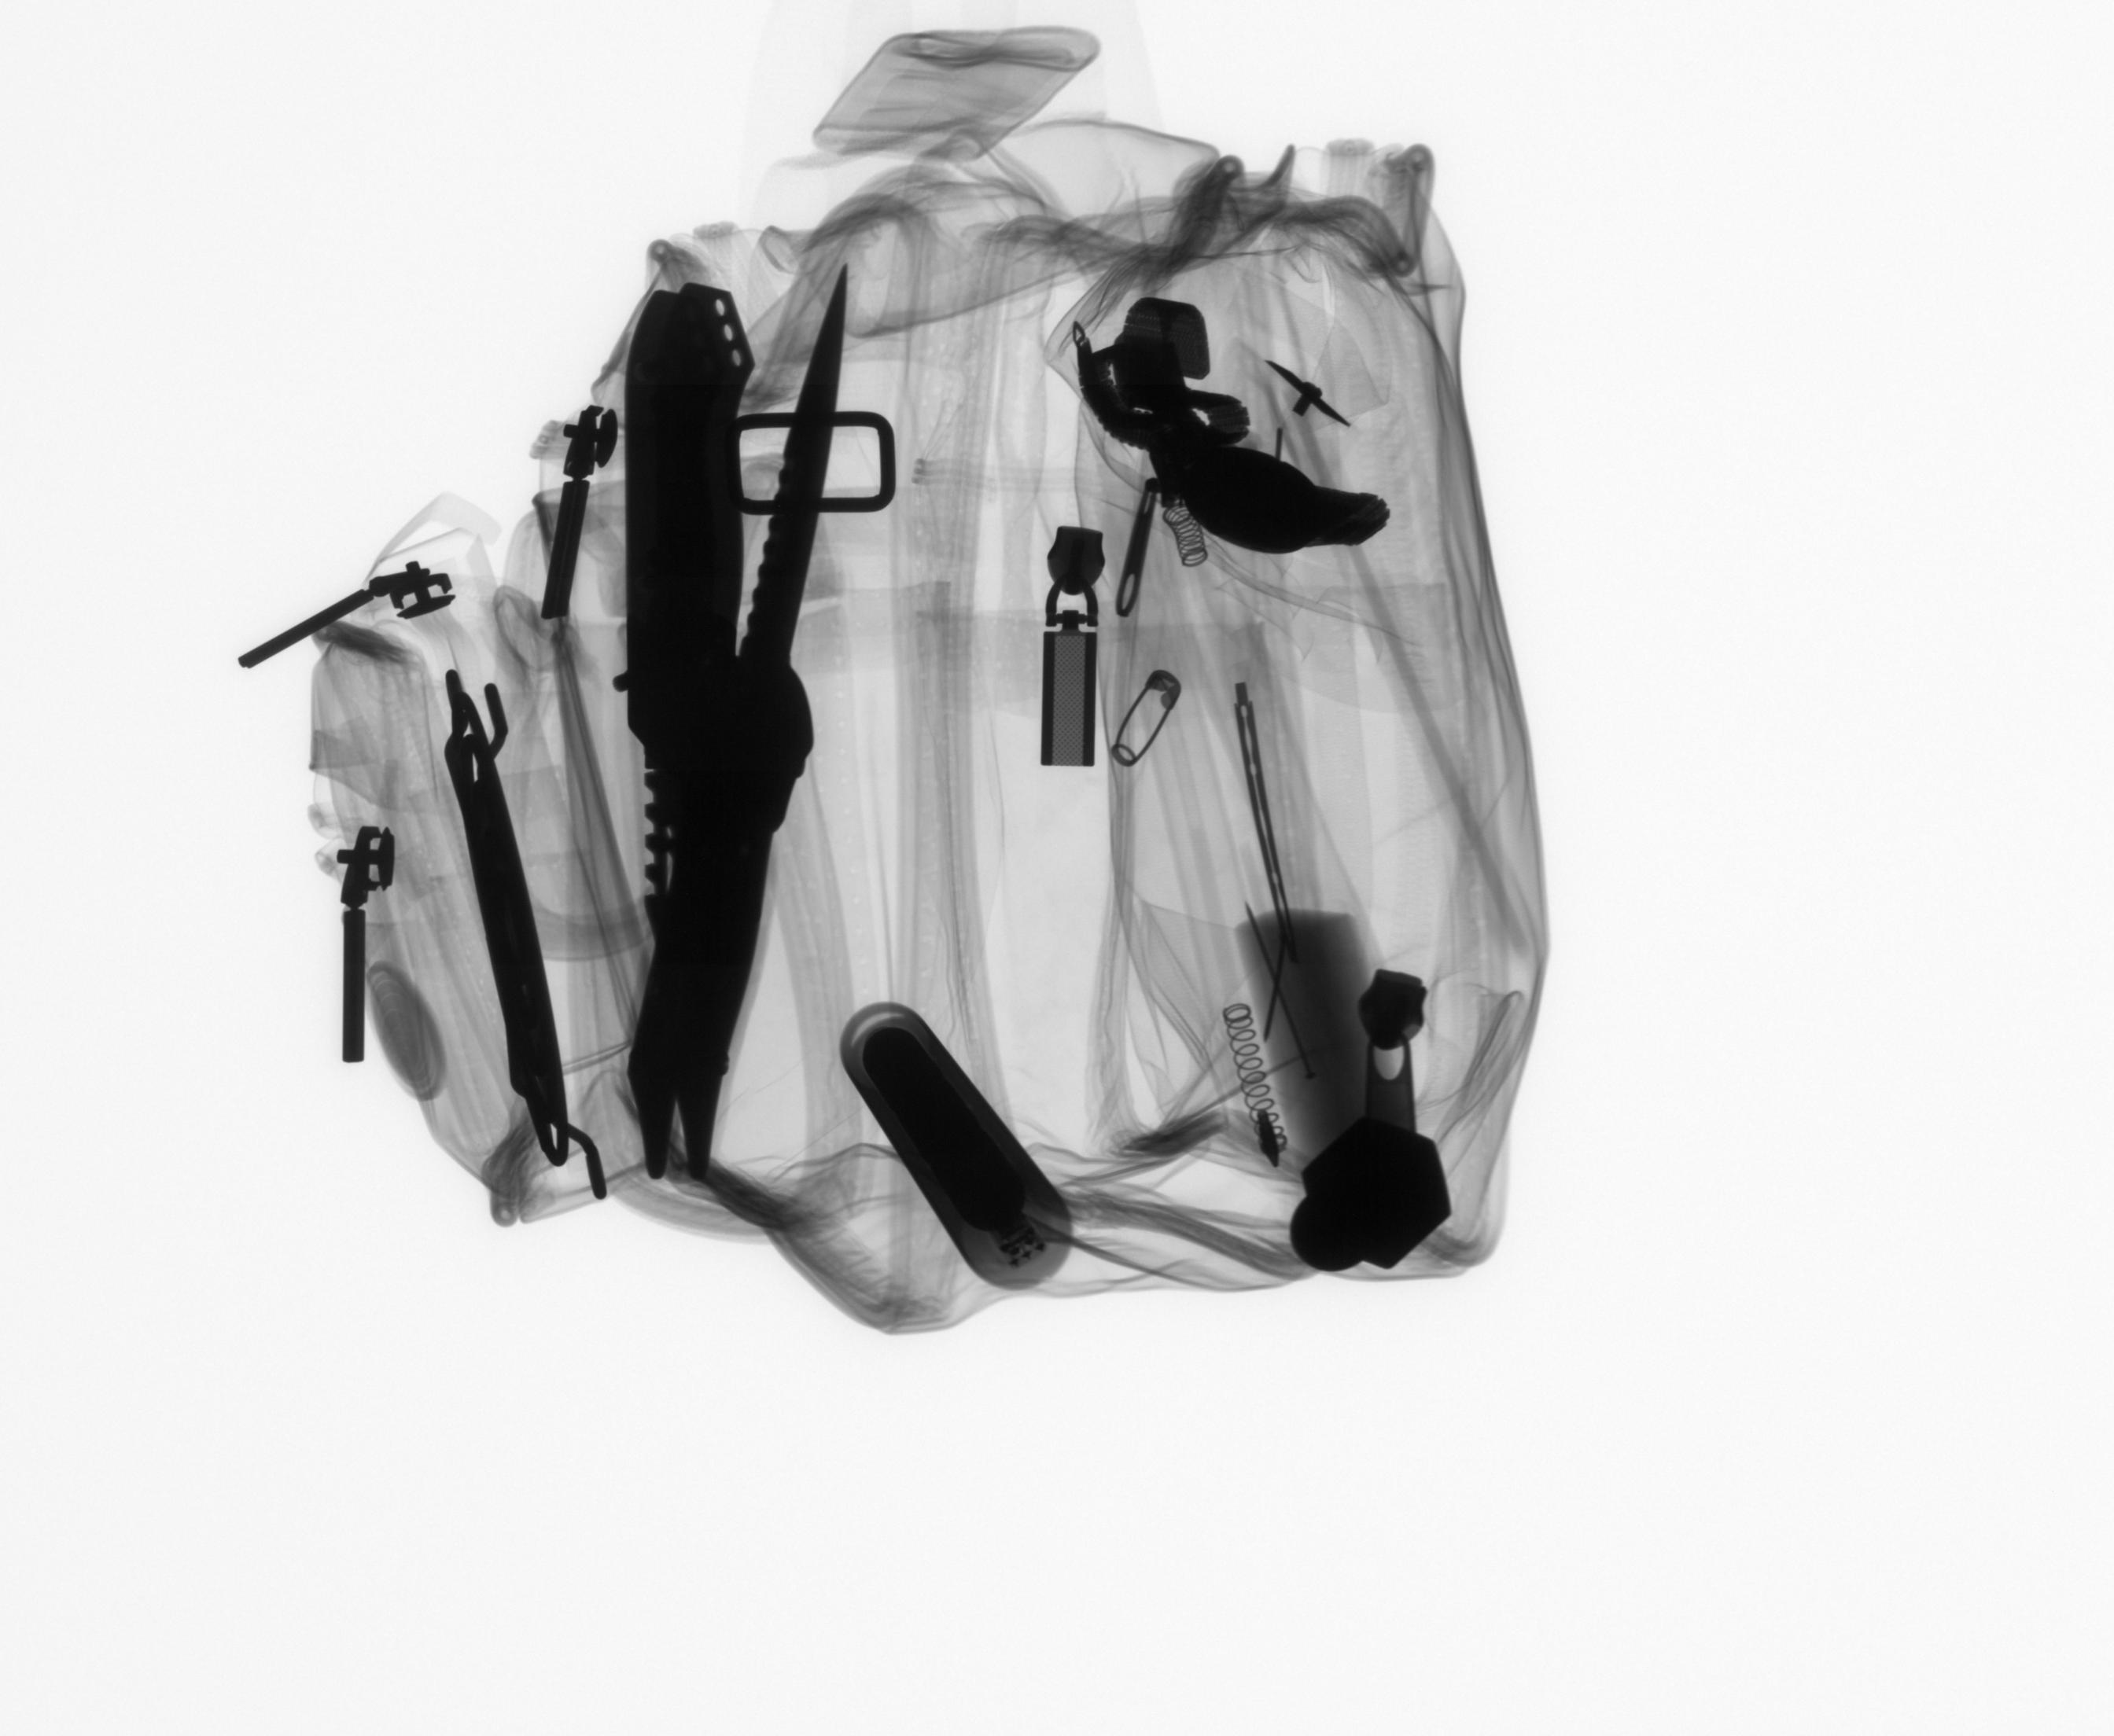Knife: (615, 256, 868, 1190), (620, 280, 764, 1187)
RazorBlade: (1227, 678, 1310, 933)
